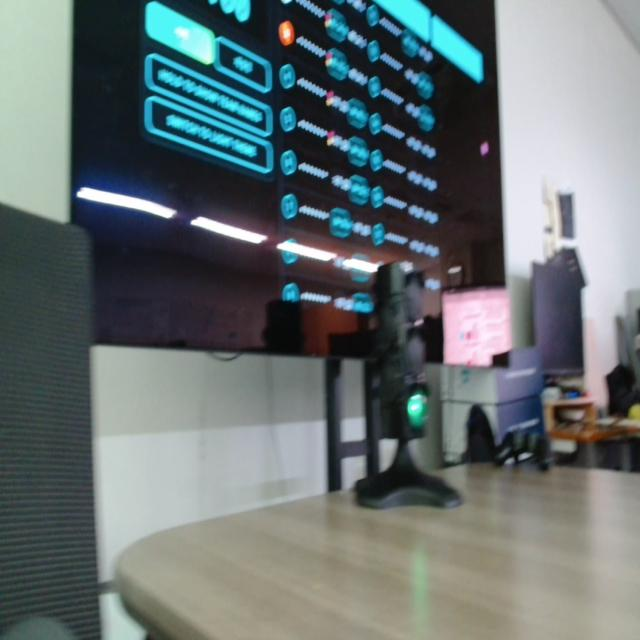green_light: (407, 393, 428, 429)
